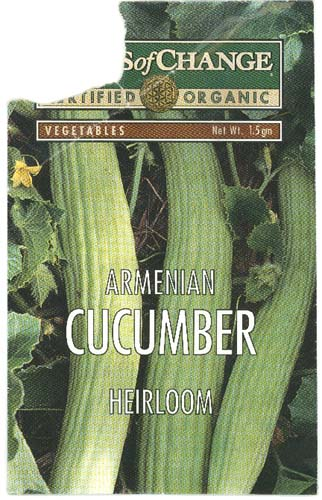cucumber: (127, 86, 239, 490), (46, 109, 144, 496), (209, 149, 315, 491)
